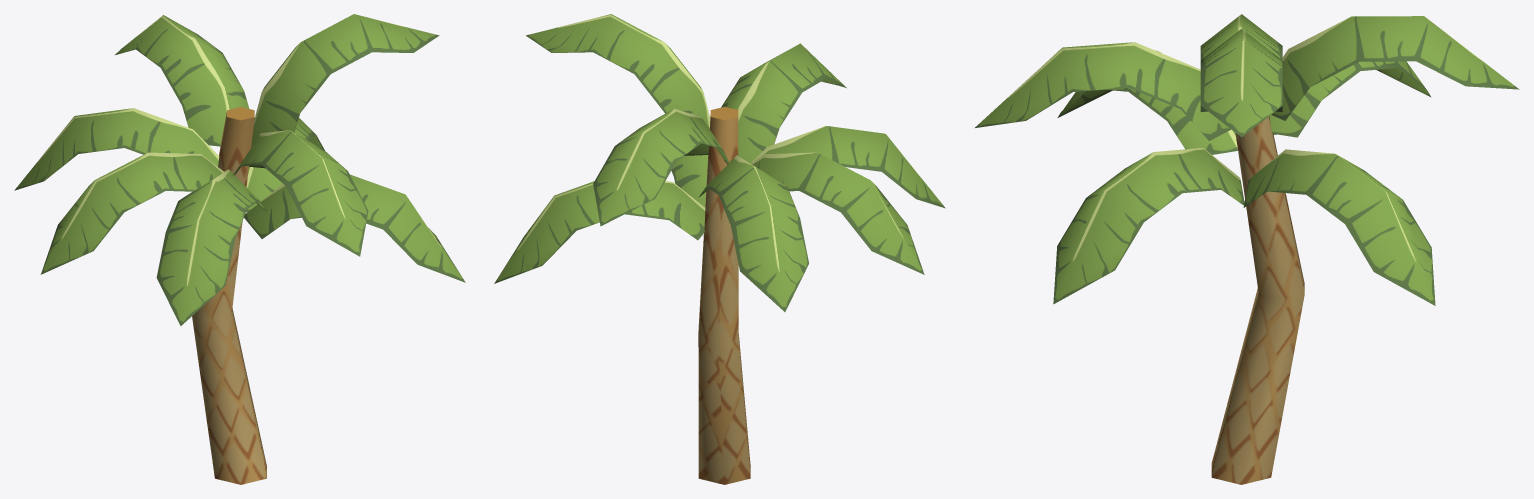
The model's file is coqueiro01.FBX.
3 views of the same model, side by side, from view 1: azimuth 30°, elevation 25°; view 2: azimuth 150°, elevation 25°; view 3: azimuth 270°, elevation 25° (orthographic). The views are drawn at different scales.
Parts seen in each view (by area): view 1: troncoCoqueiro002, folhaCoqueiro012, folhaCoqueiro005, folhaCoqueiro007, folhaCoqueiro008, folhaCoqueiro006, folhaCoqueiro009, folhaCoqueiro011, folhaCoqueiro010; view 2: troncoCoqueiro002, folhaCoqueiro009, folhaCoqueiro007, folhaCoqueiro006, folhaCoqueiro005, folhaCoqueiro010, folhaCoqueiro008, folhaCoqueiro012, folhaCoqueiro011; view 3: troncoCoqueiro002, folhaCoqueiro010, folhaCoqueiro011, folhaCoqueiro006, folhaCoqueiro008, folhaCoqueiro005, folhaCoqueiro009, folhaCoqueiro012, folhaCoqueiro007.
Boxes of the visible parts, box(x1,y1,x2,y2) form: troncoCoqueiro002: box(192, 107, 266, 484); folhaCoqueiro012: box(156, 169, 266, 325); folhaCoqueiro005: box(251, 14, 439, 147); folhaCoqueiro007: box(40, 152, 223, 274); folhaCoqueiro008: box(233, 130, 368, 256); folhaCoqueiro006: box(115, 15, 249, 146); folhaCoqueiro009: box(14, 108, 219, 190); folhaCoqueiro011: box(244, 174, 465, 282); folhaCoqueiro010: box(246, 118, 324, 212); troncoCoqueiro002: box(698, 106, 750, 484); folhaCoqueiro009: box(698, 155, 808, 311); folhaCoqueiro007: box(752, 152, 924, 274); folhaCoqueiro006: box(593, 108, 729, 226); folhaCoqueiro005: box(526, 14, 710, 128); folhaCoqueiro010: box(494, 181, 705, 283); folhaCoqueiro008: box(721, 43, 846, 163); folhaCoqueiro012: box(751, 126, 945, 208); folhaCoqueiro011: box(671, 155, 708, 207); troncoCoqueiro002: box(1211, 116, 1304, 484); folhaCoqueiro010: box(1243, 149, 1435, 305); folhaCoqueiro011: box(1053, 147, 1244, 304); folhaCoqueiro006: box(1271, 16, 1519, 120); folhaCoqueiro008: box(974, 42, 1230, 140); folhaCoqueiro005: box(1200, 29, 1282, 137); folhaCoqueiro009: box(1269, 61, 1431, 137); folhaCoqueiro012: box(1057, 50, 1237, 154); folhaCoqueiro007: box(1200, 14, 1282, 140).
Size of the model in its own units: 184 by 190 by 191.
